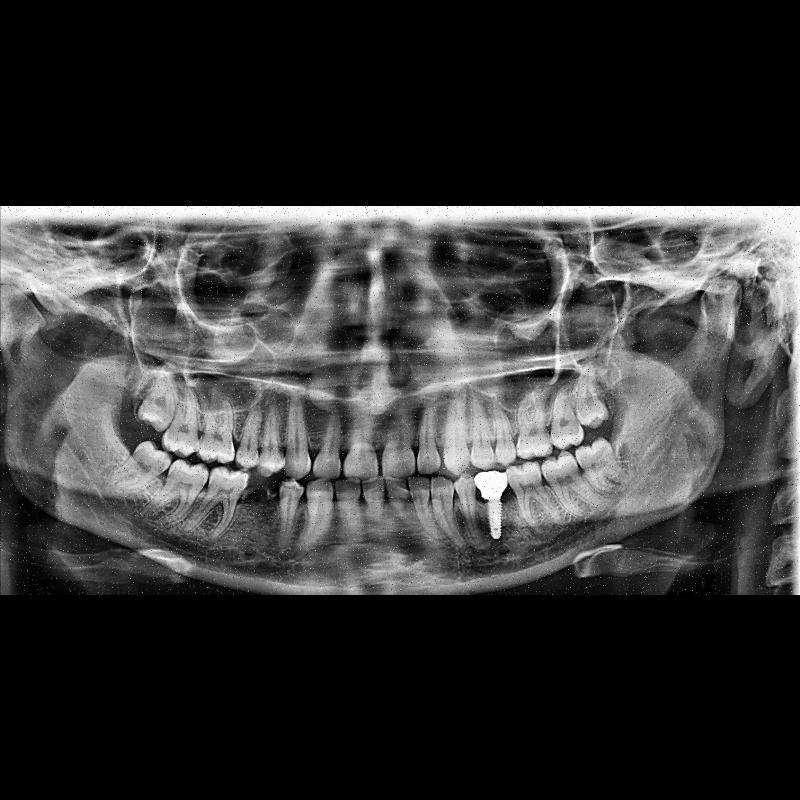osstem: (482, 500, 506, 542)
